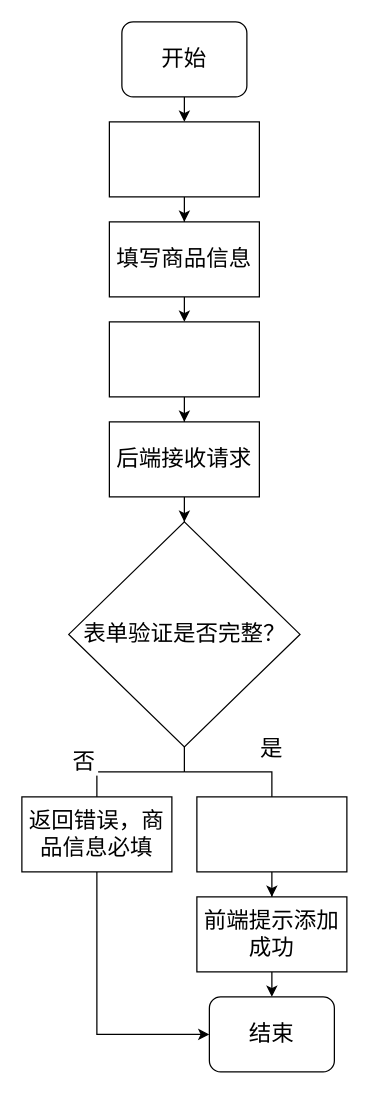
Some shapes in this 369 by 1094 pixel diagram are drawn without their labels. The shapes that lost their labels are listed below. From the top down, each one's centre as x and y in pixels, then its label:
the point at 183,159: 进入商品管理页面
the point at 183,359: 前端发送POST请求
the point at 271,834: 保存商品信息
